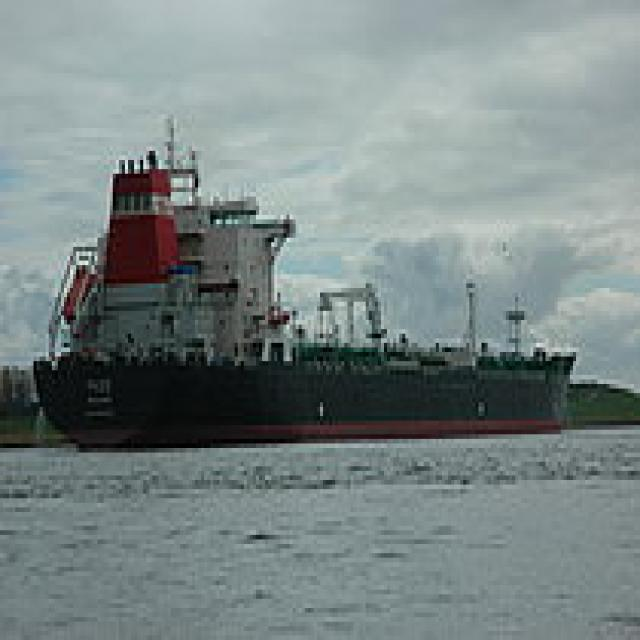Tanker: (27, 114, 573, 448)
